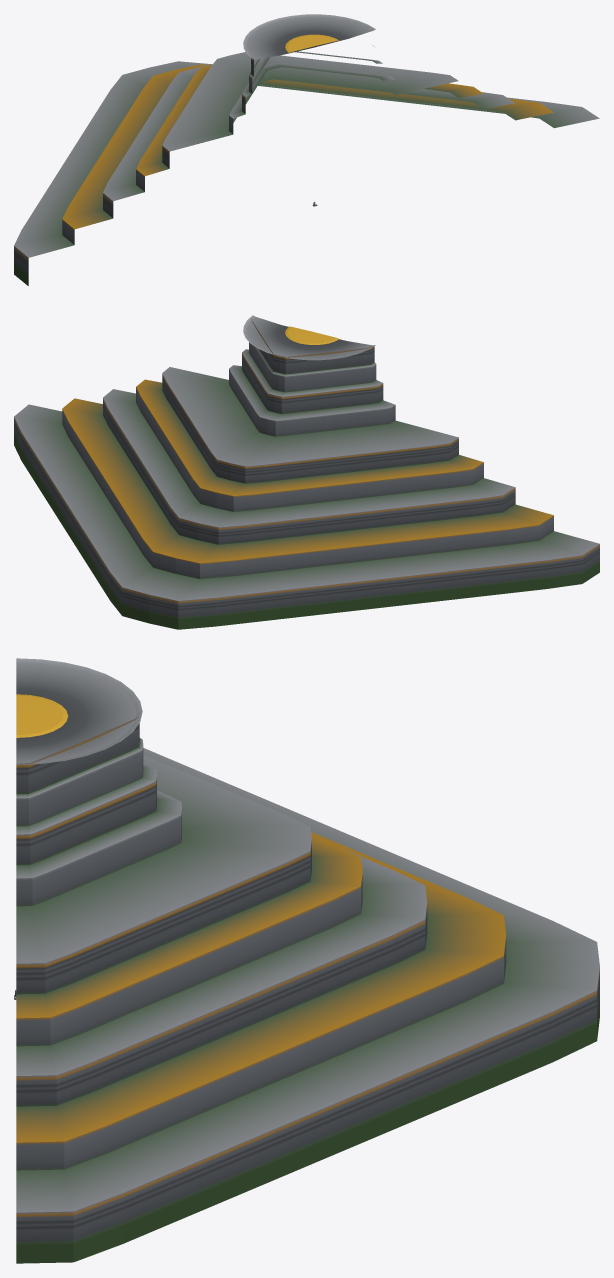
File: temple-s1-BLYa0kG6.glb
3 renders of one model, top to bottom at view 1: azimuth 30°, elevation 25°; view 2: azimuth 150°, elevation 25°; view 3: azimuth 270°, elevation 25°, orthographic. The views are drawn at different scales.
Visible parts, largest first — view 1: sc_landmark_0; view 2: sc_landmark_0; view 3: sc_landmark_0.
Part boxes in pixels (x1=…): sc_landmark_0: x1=14, y1=14, x2=599, y2=285; sc_landmark_0: x1=14, y1=315, x2=599, y2=629; sc_landmark_0: x1=16, y1=658, x2=599, y2=1263.
Size of the model in its own units: 758 by 219 by 381.
